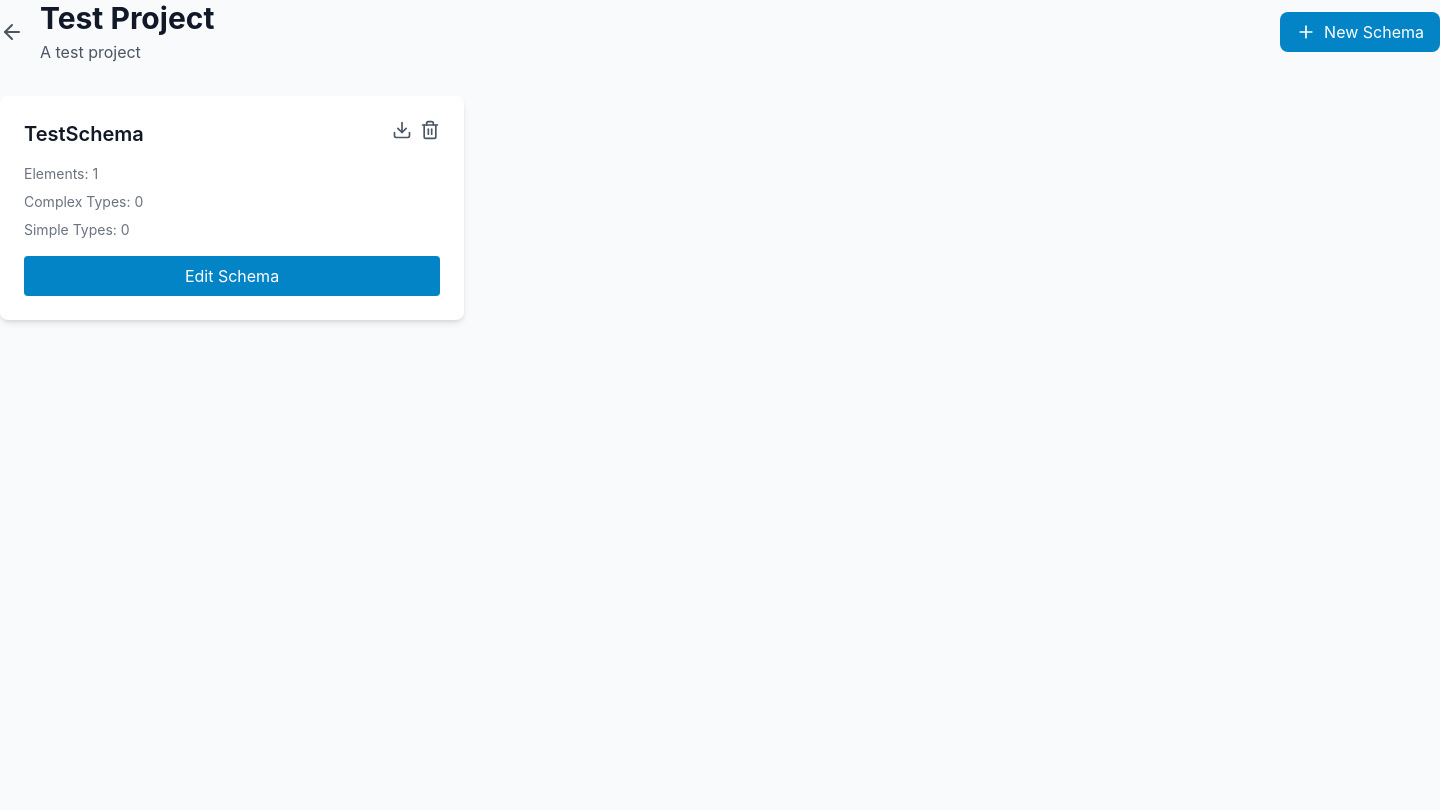
ProjectPage › opens create schema modal
The width and height of the screenshot is (1440, 810).
Step 1. Click the button "New Schema" → (1360, 32), box [1280,12,1439,52]
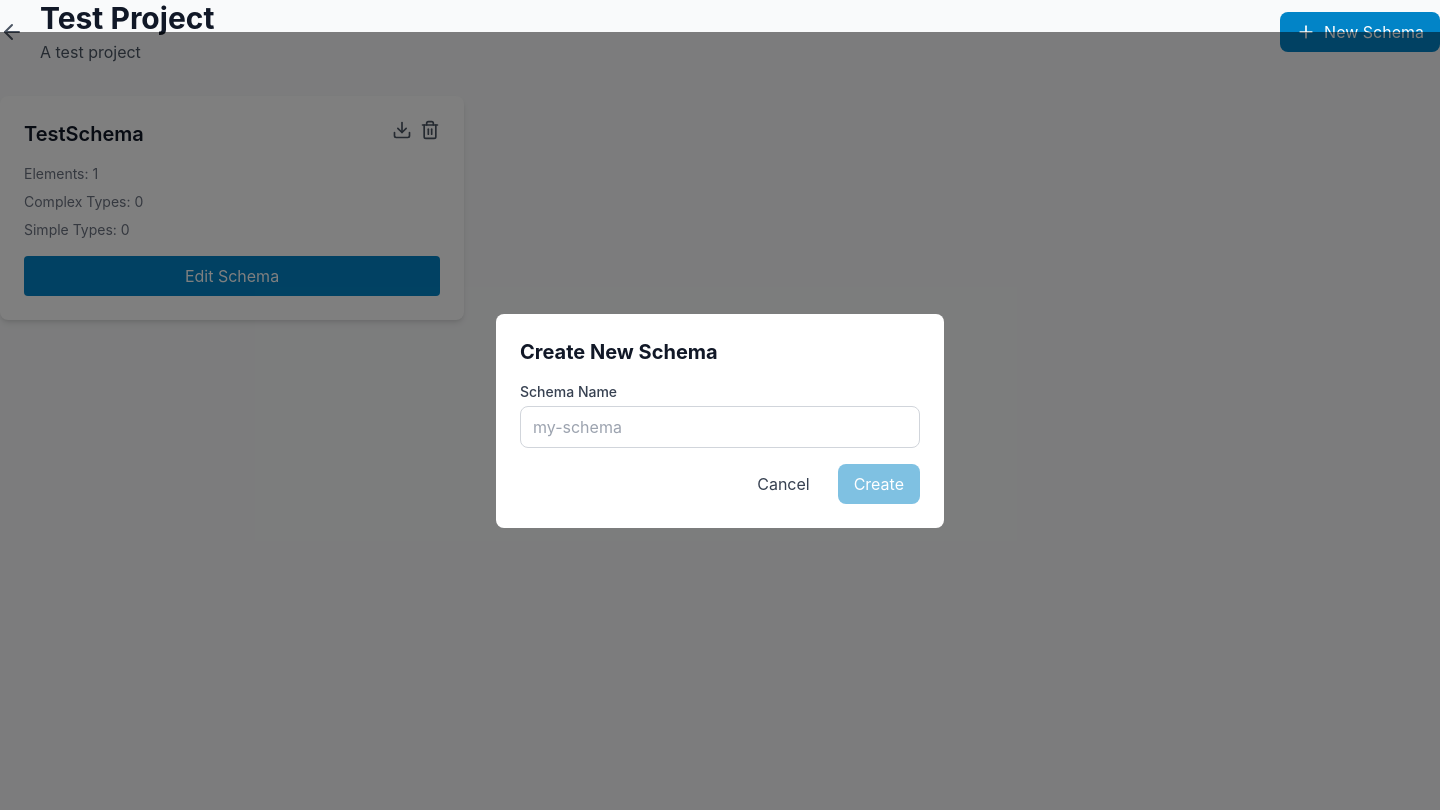
Expected: the heading "Create New Schema" is shown, [520,340,718,364]
